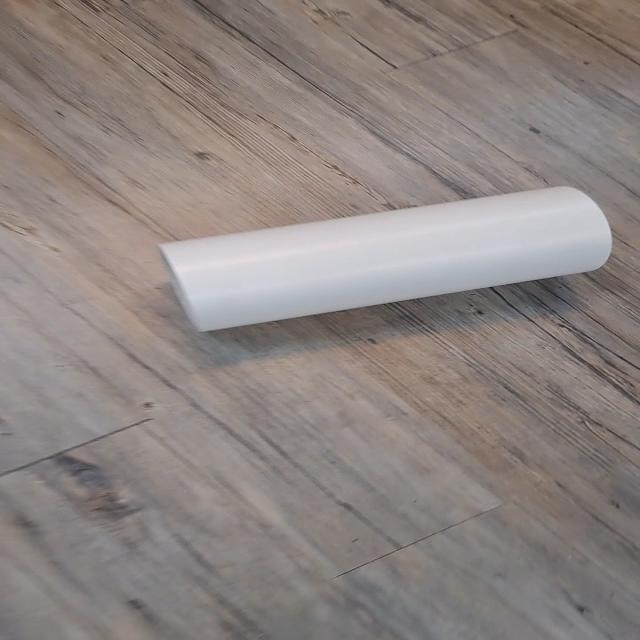CORAL: (143, 179, 622, 346)
